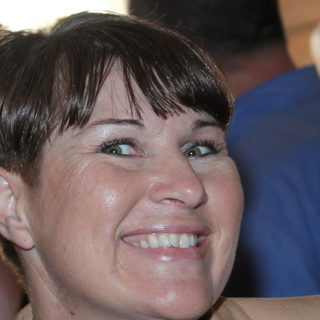eye: (94, 134, 143, 162), (179, 138, 225, 163)
